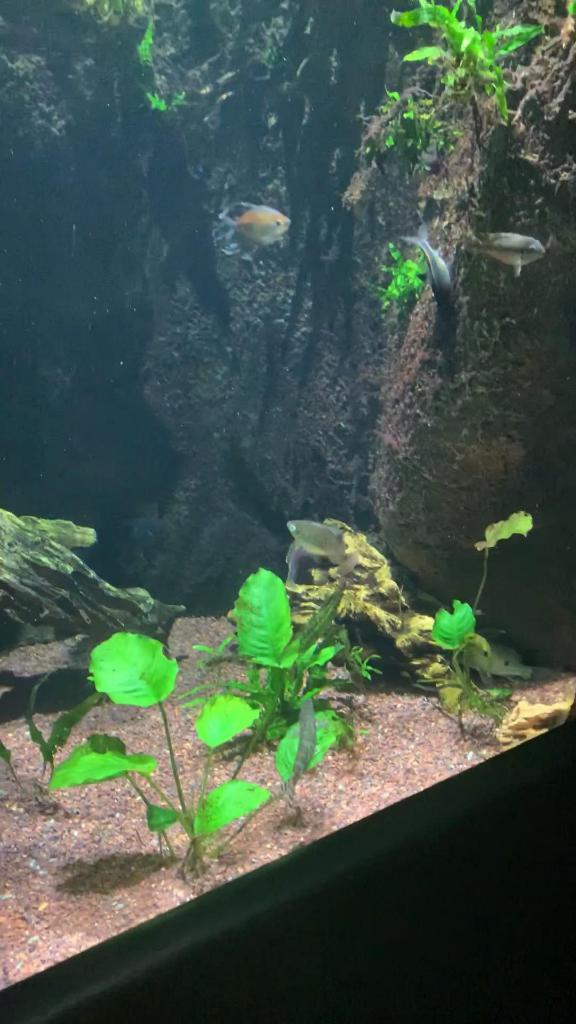fish: (401, 225, 459, 311), (216, 200, 290, 258), (464, 230, 546, 276), (288, 520, 354, 570)
